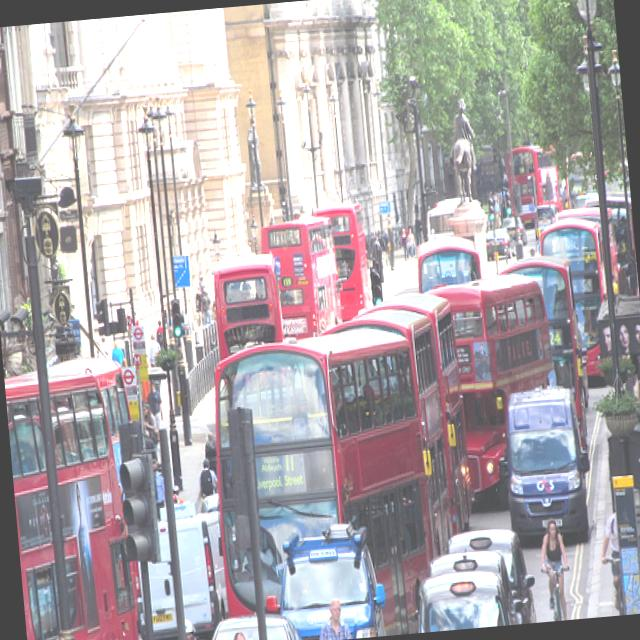Vehicle: (205, 318, 436, 640), (2, 353, 152, 640), (330, 281, 478, 566), (430, 269, 567, 516), (502, 254, 595, 456), (271, 518, 389, 640), (537, 216, 616, 390), (257, 212, 344, 341), (503, 426, 588, 544), (446, 524, 538, 629), (210, 250, 288, 360), (404, 564, 524, 634), (318, 200, 378, 320), (552, 204, 620, 300), (503, 142, 562, 220), (414, 234, 482, 292), (202, 608, 309, 640), (429, 549, 500, 575), (424, 197, 464, 240), (484, 227, 516, 260), (532, 204, 560, 238), (500, 216, 528, 247)
